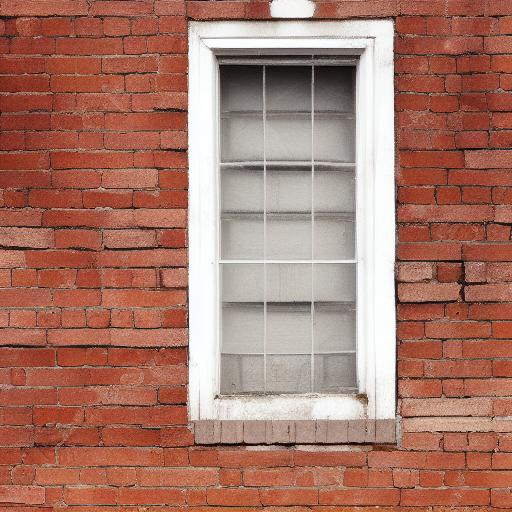Window: (184, 20, 401, 448)
